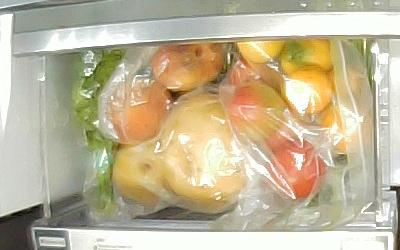peach_vinyl: (106, 82, 169, 144), (149, 42, 226, 91)
pear_vinyl: (162, 94, 245, 206), (113, 145, 165, 206)
tangerine_vinyl: (282, 66, 332, 114), (280, 38, 333, 73), (319, 103, 349, 154), (235, 41, 286, 62)
tomato_vinyl: (266, 138, 325, 199), (229, 83, 283, 141), (227, 59, 282, 91)
